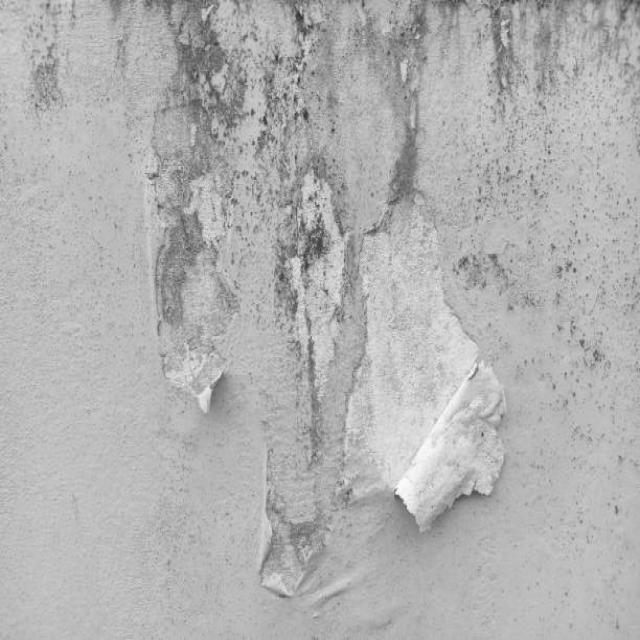peeling paint: (124, 0, 552, 613)
